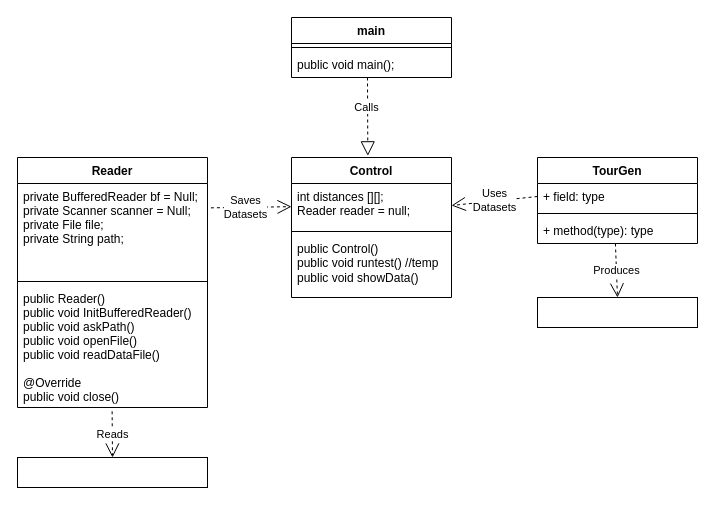
Image size: 715x505. Some labels were removed from this diagram. Each missing label, with the centre of its shape:
"3 possible Tours" belongs at (617,312).
"Datasets" belongs at (112,472).
